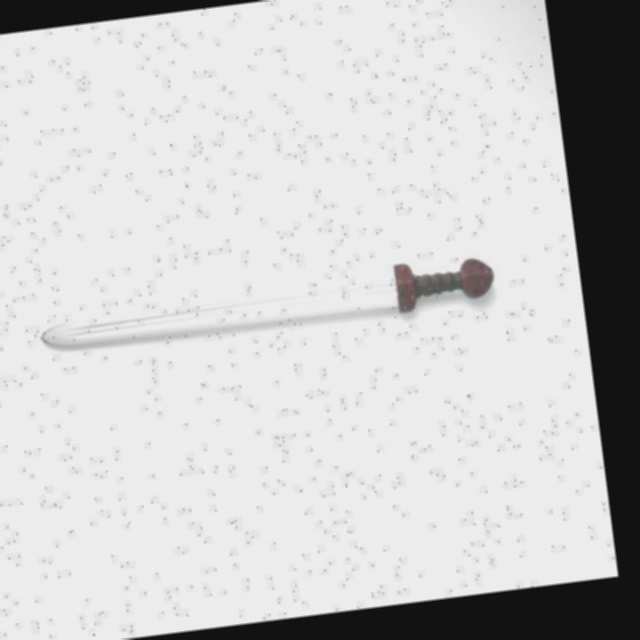Sharp-Object: (40, 256, 495, 361)
